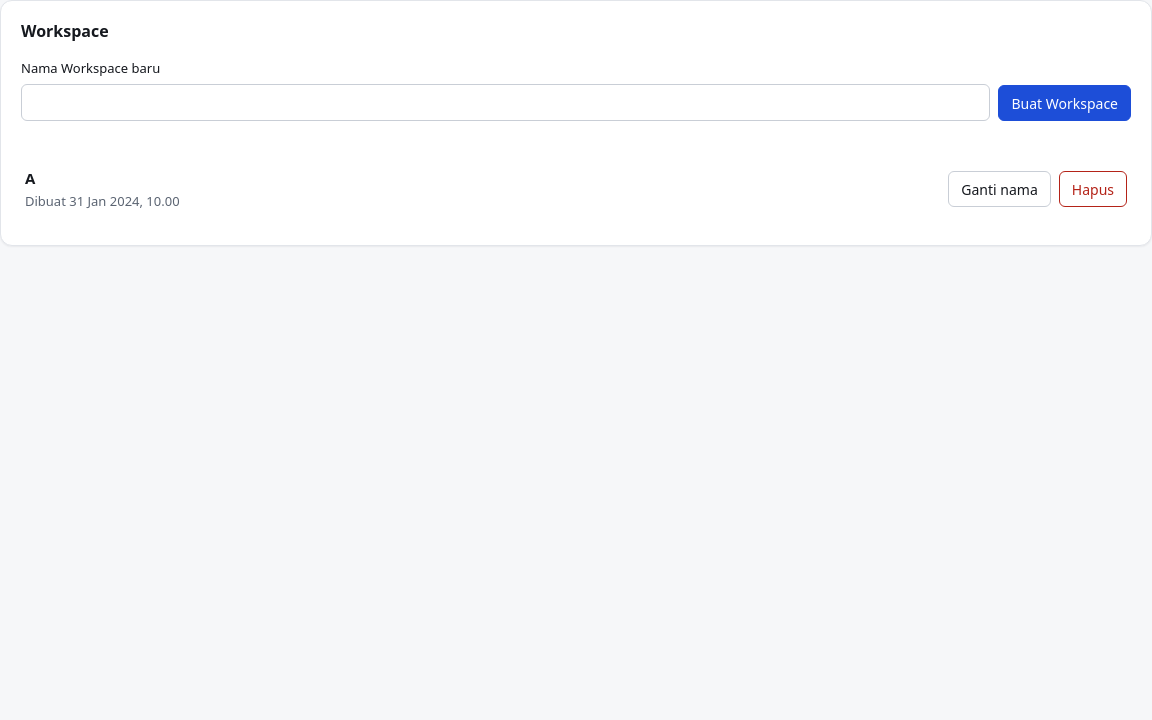
Test case: WorkspaceList › membatalkan dialog hapus dengan Escape tanpa menghapus
Click the button with aria-label "Hapus A": (1093, 189) [1059, 171, 1127, 207]
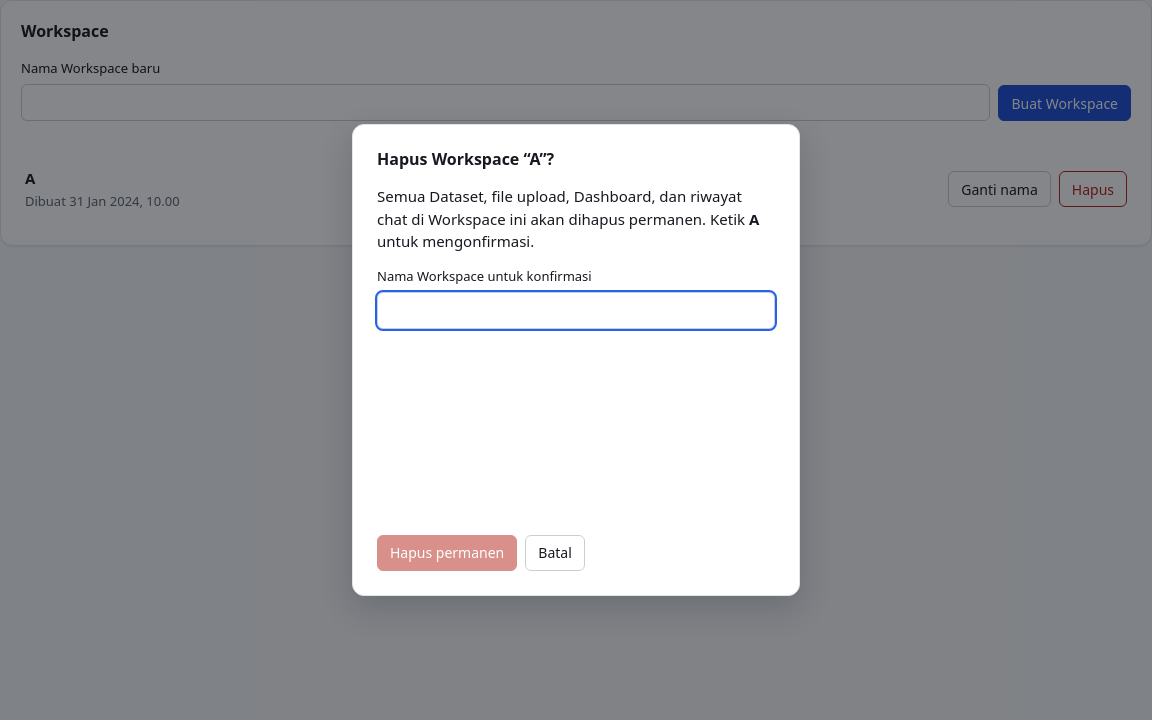
Press Escape
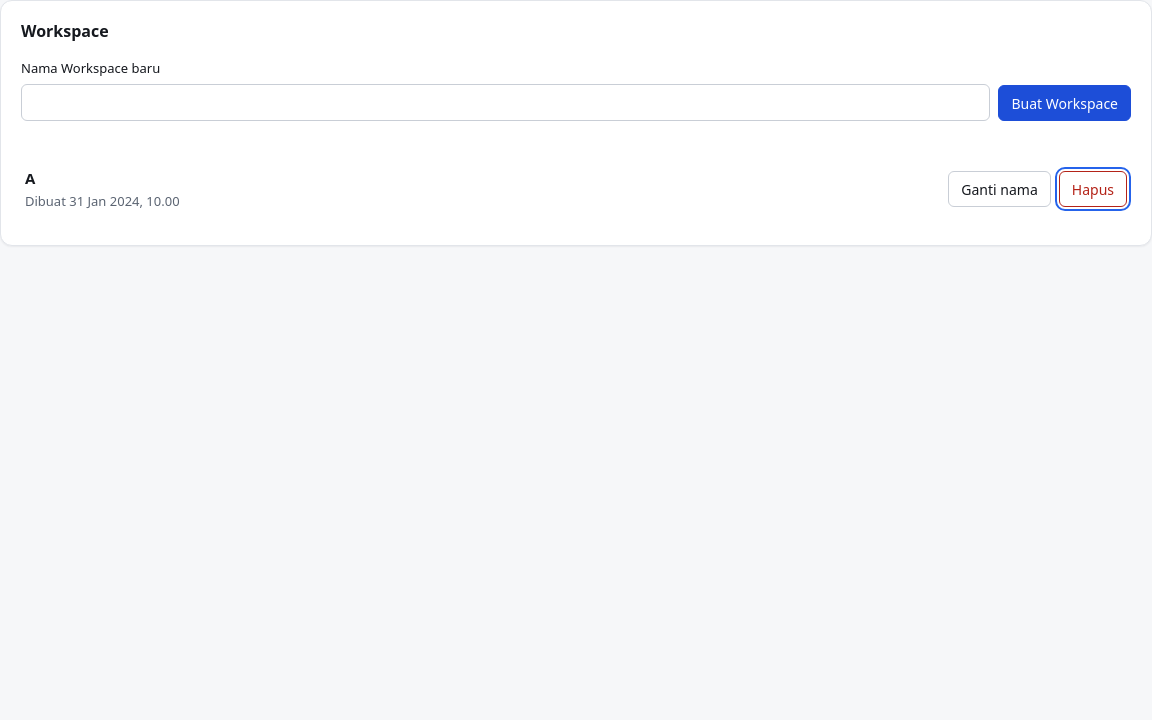
Expected: the dialog is gone
